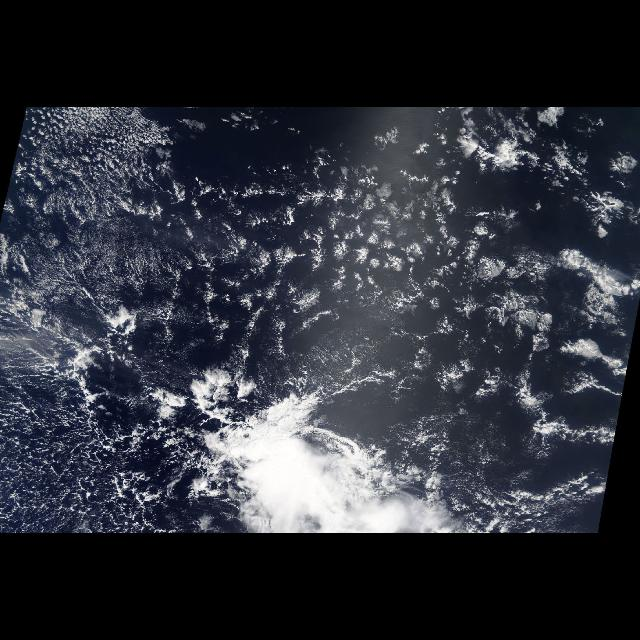Flower: (170, 138, 640, 422)
Gravel: (1, 113, 239, 321), (5, 324, 205, 534)
Sugar: (3, 136, 241, 530)
